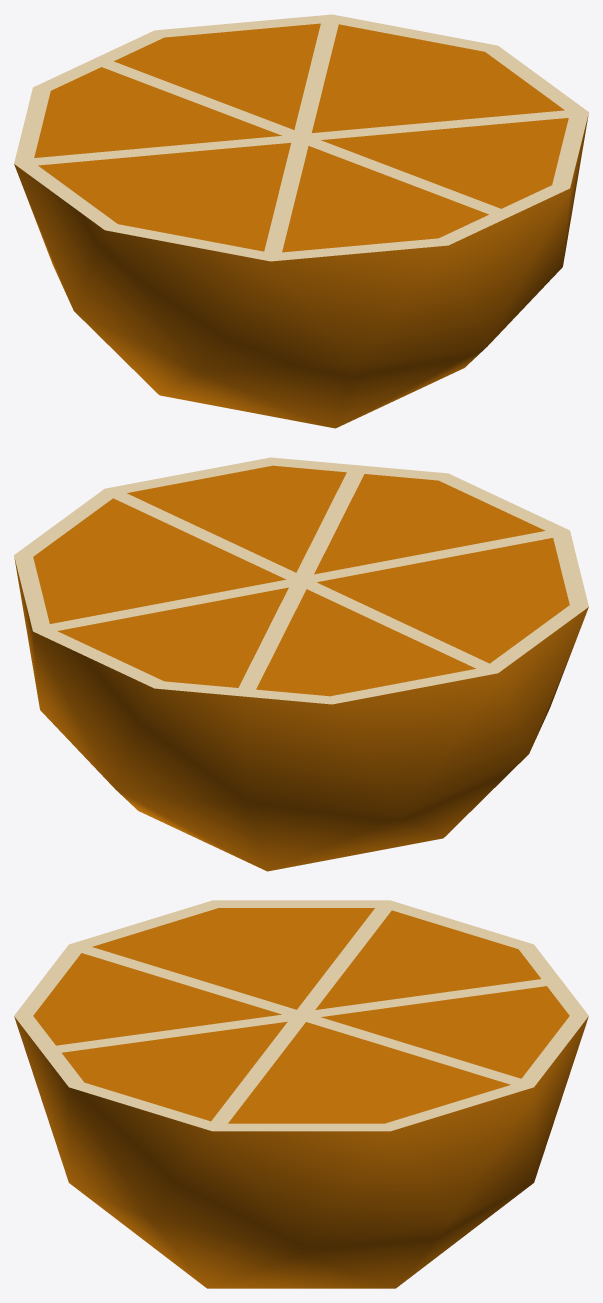
File: Orange_2.fbx
3 renders of one model, top to bottom at view 1: azimuth 30°, elevation 25°; view 2: azimuth 150°, elevation 25°; view 3: azimuth 270°, elevation 25°, orthographic. The views are drawn at different scales.
Visible parts, largest first — view 1: Orange_2; view 2: Orange_2; view 3: Orange_2.
Boxes of the visible parts, x1,y1,x2,y2 form: Orange_2: [14, 14, 588, 428]; Orange_2: [14, 457, 588, 871]; Orange_2: [14, 900, 588, 1288].
Bounding box in the file's own units: 0.0878 × 0.0458 × 0.0923.
